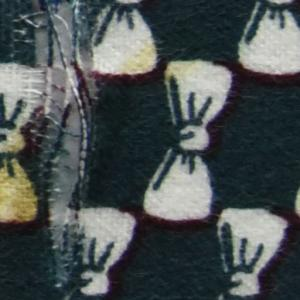Damage: (12, 1, 102, 300)
Stain: (1, 119, 44, 235), (113, 38, 201, 86)
